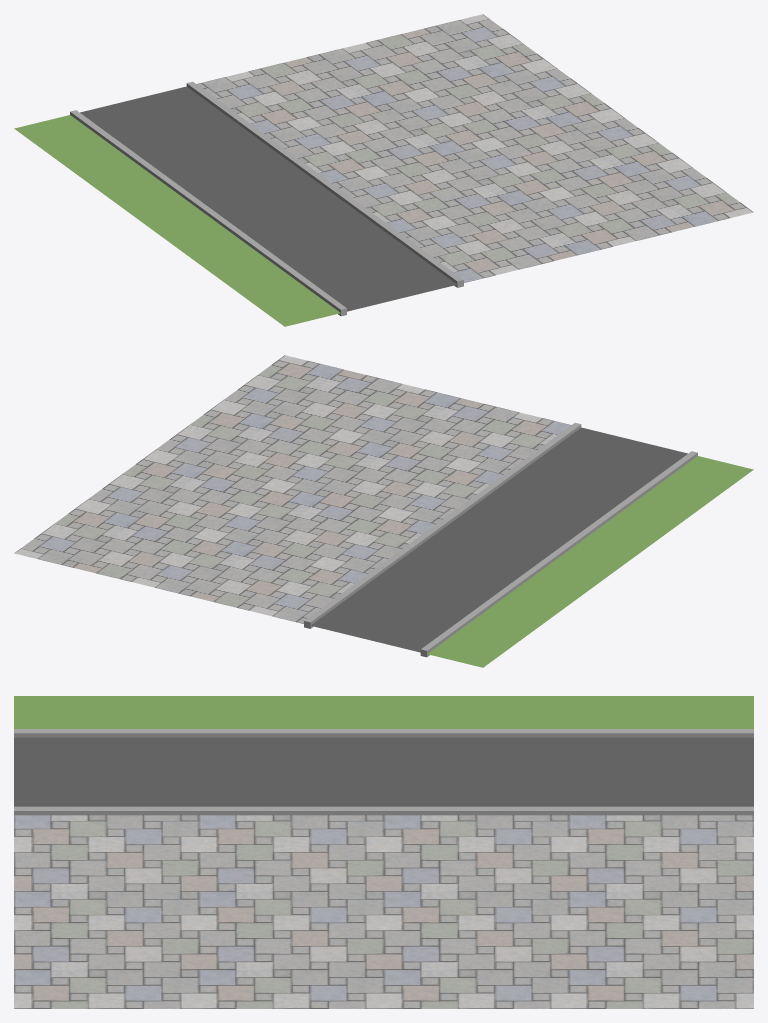
The model's file is Set_B_Tiles_05.glb.
3 renders of one model, top to bottom at view 1: azimuth 30°, elevation 25°; view 2: azimuth 150°, elevation 25°; view 3: azimuth 270°, elevation 25°, orthographic. The views are drawn at different scales.
Visible parts, largest first — view 1: Set_B_Tiles_05; view 2: Set_B_Tiles_05; view 3: Set_B_Tiles_05.
Part boxes in pixels (x1,y1,x2,y2): Set_B_Tiles_05: (14,14,753,326); Set_B_Tiles_05: (14,355,753,667); Set_B_Tiles_05: (14,696,753,1008).
Size of the model in its own units: 15 by 0.2 by 15.
4 materials, 2 textured.
